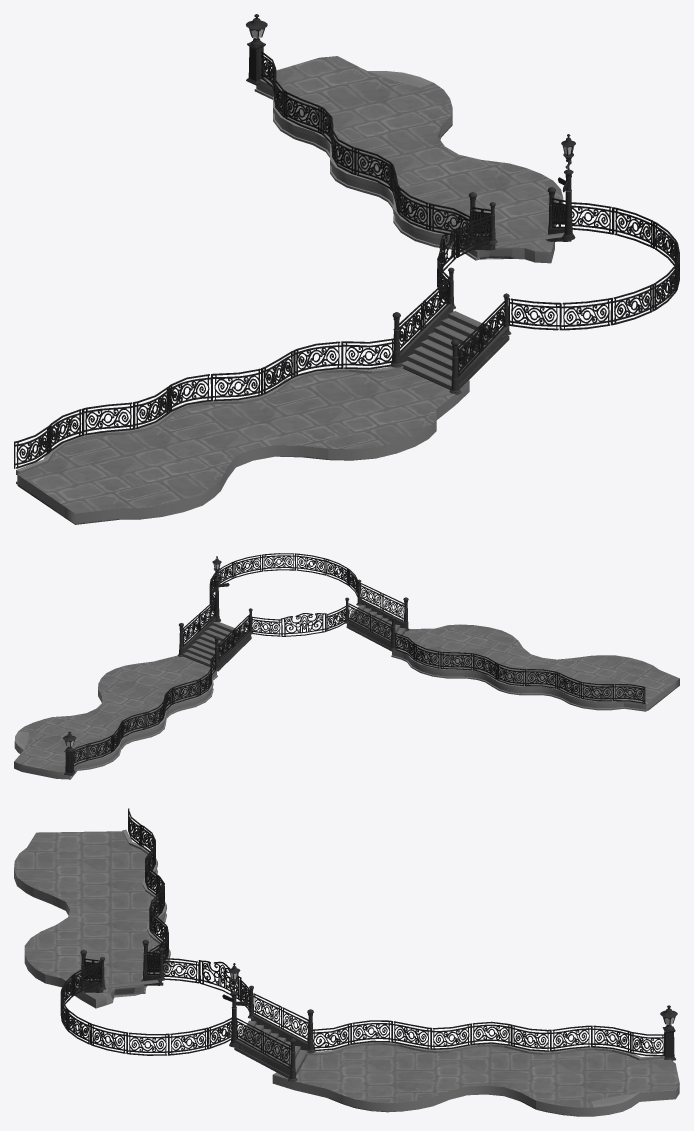
Rendered from Upstairs.fbx.
The picture shows the model from 3 angles, top to bottom: view 1: azimuth 30°, elevation 25°; view 2: azimuth 150°, elevation 25°; view 3: azimuth 270°, elevation 25°; orthographic projection. The views are drawn at different scales.
Parts seen in each view (by area): view 1: balcony_noreflectionsversion, railing8, lateralSideways1_uv1, railing1, railing9, lateralSideways_uv2, sideStairs1, railing6, railing7, railing4, lateralStairDetail4; view 2: balcony_noreflectionsversion, railing8, lateralSideways1_uv1, railing9, railing1, lateralSideways_uv2, sideStairs, railing7, railing6, railing, sideStairs1, railing2 (+3 smaller); view 3: balcony_noreflectionsversion, railing9, lateralSideways_uv2, railing1, lateralSideways1_uv1, railing8, sideStairs, railing3, railing2, railing, railing5, lateralStairDetail6 (+1 smaller).
Boxes of the visible parts, x1=… form: balcony_noreflectionsversion: x1=18, y1=56, x2=563, y2=513; railing8: x1=14, y1=338, x2=394, y2=468; lateralSideways1_uv1: x1=16, y1=366, x2=469, y2=524; railing1: x1=508, y1=202, x2=679, y2=330; railing9: x1=261, y1=51, x2=469, y2=239; lateralSideways_uv2: x1=254, y1=56, x2=563, y2=263; sideStairs1: x1=401, y1=311, x2=505, y2=389; railing6: x1=399, y1=277, x2=450, y2=352; railing7: x1=457, y1=300, x2=506, y2=376; railing4: x1=456, y1=215, x2=491, y2=257; lateralStairDetail4: x1=458, y1=326, x2=509, y2=389; balcony_noreflectionsversion: x1=15, y1=624, x2=679, y2=771; railing8: x1=394, y1=632, x2=645, y2=703; lateralSideways1_uv1: x1=391, y1=648, x2=679, y2=711; railing9: x1=73, y1=653, x2=216, y2=766; railing1: x1=209, y1=553, x2=357, y2=608; lateralSideways_uv2: x1=14, y1=669, x2=217, y2=779; sideStairs: x1=182, y1=622, x2=242, y2=667; railing7: x1=360, y1=583, x2=404, y2=621; railing6: x1=348, y1=603, x2=391, y2=642; railing: x1=281, y1=613, x2=326, y2=636; sideStairs1: x1=350, y1=605, x2=405, y2=643; railing2: x1=183, y1=599, x2=215, y2=646; balcony_noreflectionsversion: x1=14, y1=831, x2=679, y2=1107; railing9: x1=313, y1=1020, x2=664, y2=1056; lateralSideways_uv2: x1=272, y1=1042, x2=679, y2=1116; railing1: x1=60, y1=961, x2=232, y2=1055; lateralSideways1_uv1: x1=14, y1=829, x2=170, y2=1008; railing8: x1=128, y1=808, x2=168, y2=973; sideStairs: x1=239, y1=1020, x2=307, y2=1075; railing3: x1=252, y1=993, x2=308, y2=1042; railing2: x1=236, y1=1018, x2=290, y2=1068; railing: x1=198, y1=960, x2=241, y2=999; railing5: x1=163, y1=958, x2=199, y2=983; lateralStairDetail6: x1=234, y1=1039, x2=290, y2=1078.
Size of the model in its own units: 55.06 by 10.95 by 56.13.
